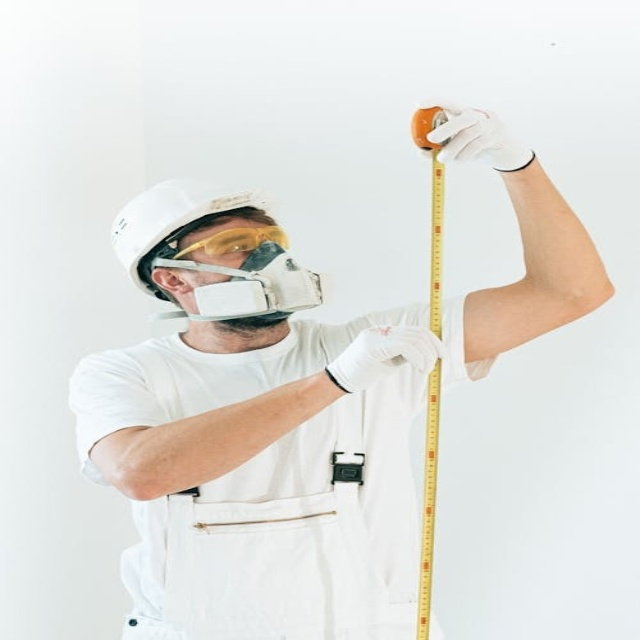Gafas: (164, 224, 292, 266)
Guantes: (320, 322, 451, 399), (416, 95, 538, 175)
Mascara: (196, 249, 332, 324)
